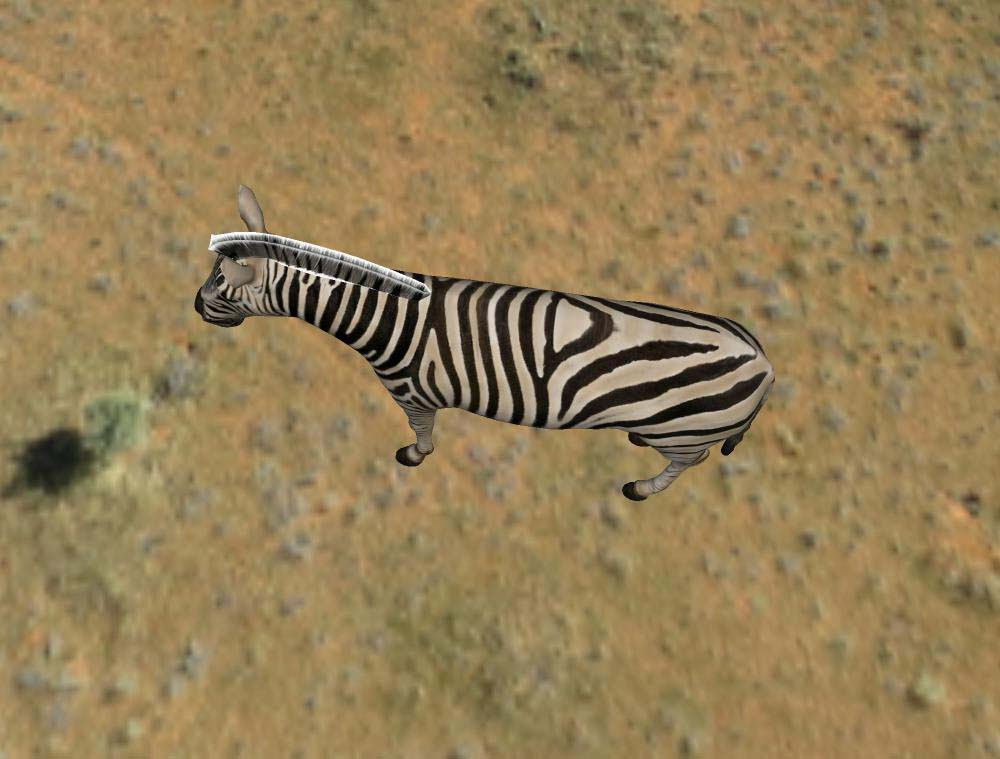zebra: (193, 180, 780, 504)
